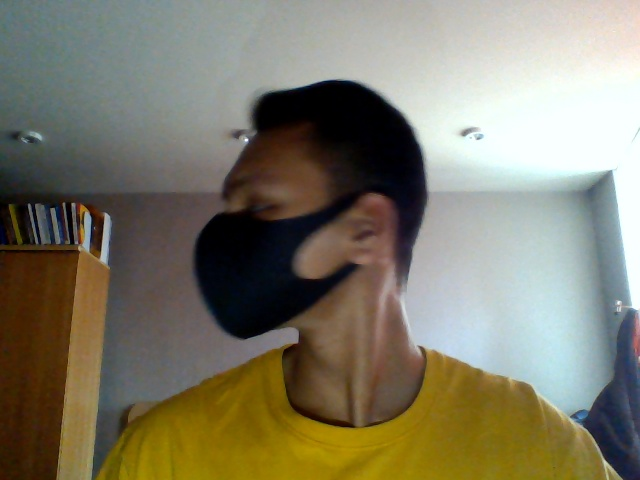mask: (191, 209, 318, 336)
